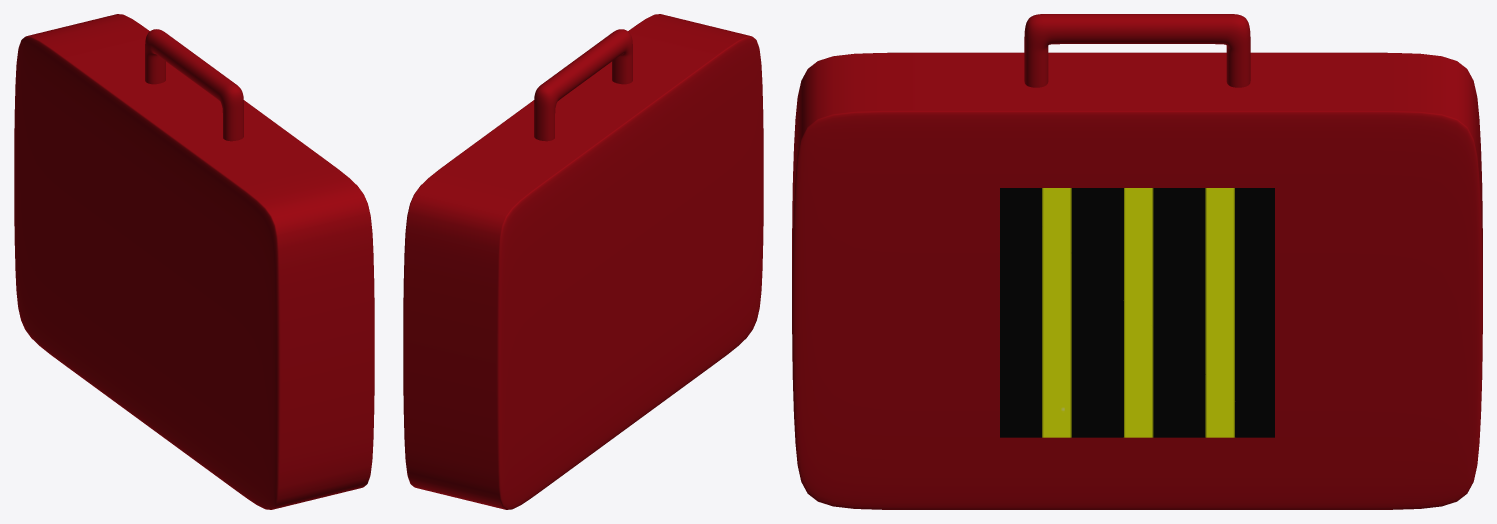
File: firstaid.fbx
3 views of the same model, side by side, from view 1: azimuth 30°, elevation 25°; view 2: azimuth 150°, elevation 25°; view 3: azimuth 270°, elevation 25° (orthographic). The views are drawn at different scales.
Visible parts, largest first — view 1: Cube, Cube.001; view 2: Cube, Cube.001; view 3: Cube, Plane, Cube.001.
Boxes of the visible parts, <box> form: Cube: <box>14,14,374,509</box>; Cube.001: <box>145,29,243,141</box>; Cube: <box>403,14,763,509</box>; Cube.001: <box>534,29,632,141</box>; Cube: <box>792,52,1482,509</box>; Plane: <box>1000,188,1274,437</box>; Cube.001: <box>1024,14,1250,87</box>.
Bounding box in the file's own units: 108 × 373 × 502.
